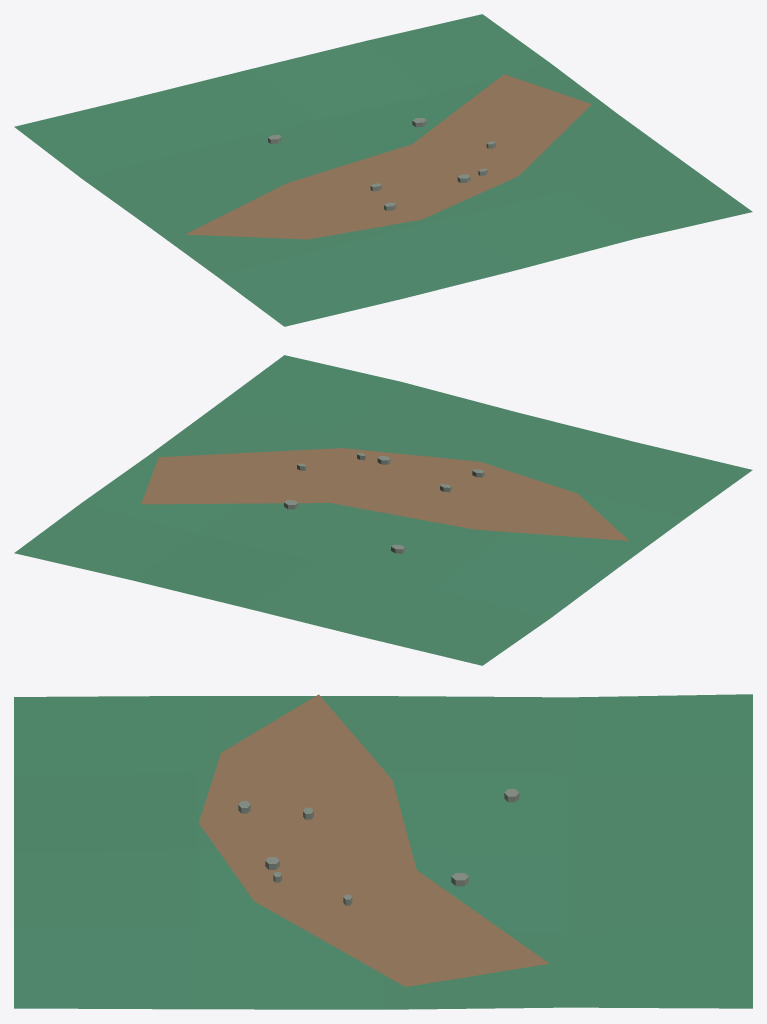
Rendered from terrain-dirt-path-curve.low.glb.
3 renders of one model, top to bottom at view 1: azimuth 30°, elevation 25°; view 2: azimuth 150°, elevation 25°; view 3: azimuth 270°, elevation 25°, orthographic. The views are drawn at different scales.
Visible parts, largest first — view 1: terrain_curve_grass_base, terrain_curve_path_ribbon; view 2: terrain_curve_grass_base, terrain_curve_path_ribbon; view 3: terrain_curve_grass_base, terrain_curve_path_ribbon.
Boxes of the visible parts, <box> form: terrain_curve_grass_base: <box>14,14,752,326</box>; terrain_curve_path_ribbon: <box>185,74,591,239</box>; terrain_curve_grass_base: <box>14,355,752,665</box>; terrain_curve_path_ribbon: <box>141,448,628,540</box>; terrain_curve_grass_base: <box>14,694,752,1009</box>; terrain_curve_path_ribbon: <box>199,694,548,986</box>.
Bounding box in the file's own units: 4 × 0.1294 × 4.
